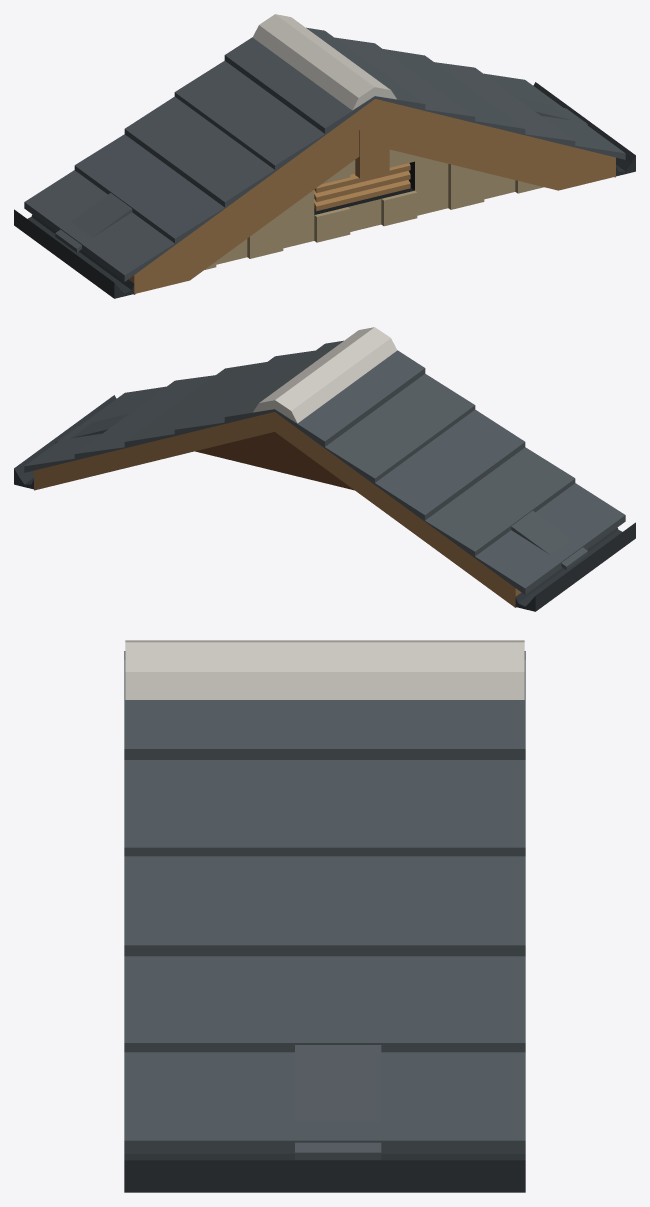
Rendered from pitched-roof-bay-79ed31.glb.
3 views of the same model, one above another, from view 1: azimuth 30°, elevation 25°; view 2: azimuth 150°, elevation 25°; view 3: azimuth 270°, elevation 25° (orthographic). The views are drawn at different scales.
Visible parts, largest first — view 1: pitched-roof-bay; view 2: pitched-roof-bay; view 3: pitched-roof-bay.
Boxes of the visible parts, <box> form: pitched-roof-bay: <box>14,14,635,298</box>; pitched-roof-bay: <box>14,327,635,611</box>; pitched-roof-bay: <box>124,640,525,1192</box>.
Size of the model in its own units: 3 by 0.8188 by 1.
